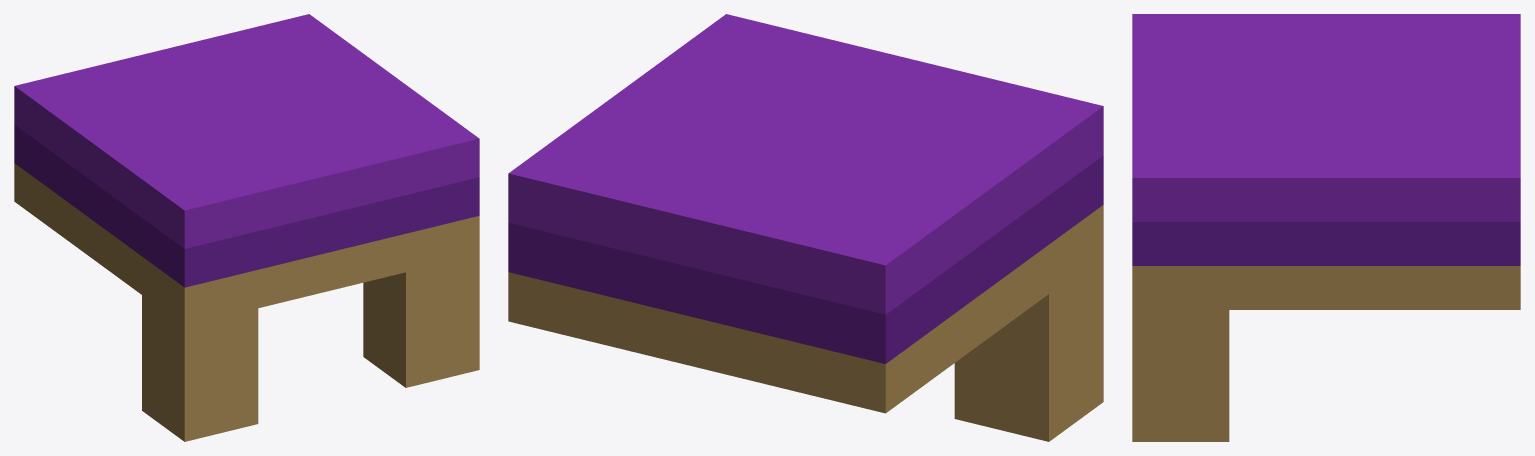
Rendered from Purple Bed.glb.
3 renders of one model, left to right at view 1: azimuth 30°, elevation 25°; view 2: azimuth 150°, elevation 25°; view 3: azimuth 270°, elevation 25°, orthographic. The views are drawn at different scales.
Parts seen in each view (by area): view 1: Untitled; view 2: Untitled; view 3: Untitled.
Boxes of the visible parts, x1,y1,x2,y2 form: Untitled: [14, 14, 479, 441]; Untitled: [508, 14, 1103, 441]; Untitled: [1132, 14, 1520, 441].
Bounding box in the file's own units: 1.6 × 1.2 × 1.6.
1 material, 1 textured.
